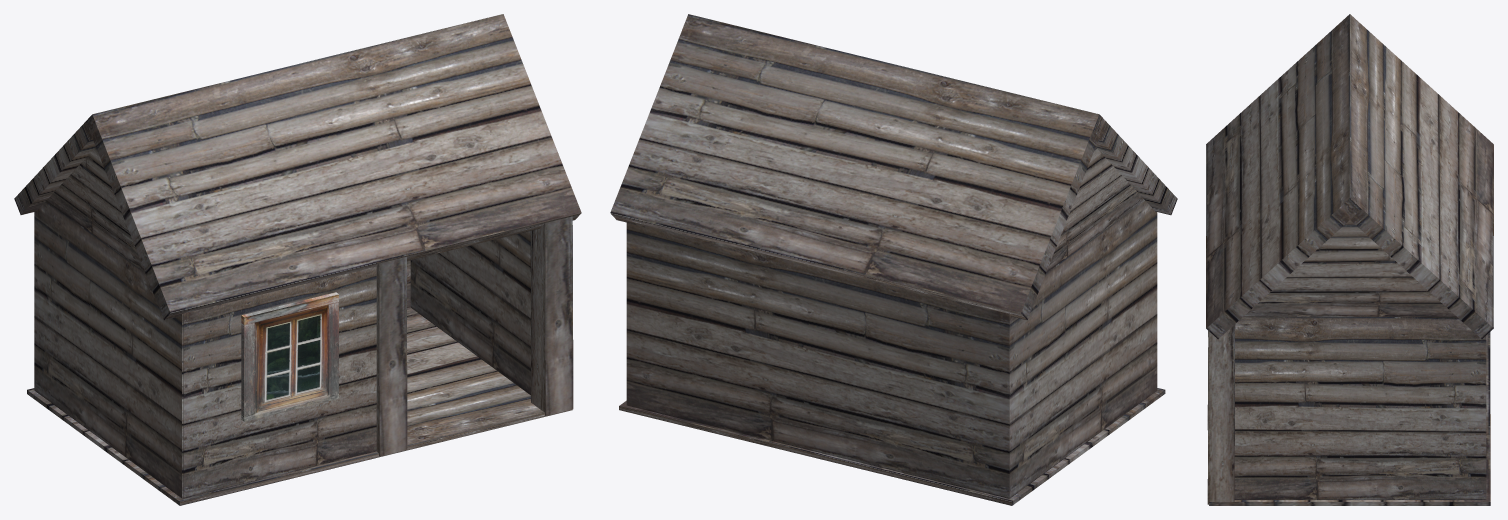
The model's file is house.obj.
3 views of the same model, side by side, from view 1: azimuth 30°, elevation 25°; view 2: azimuth 150°, elevation 25°; view 3: azimuth 270°, elevation 25° (orthographic). The views are drawn at different scales.
Visible parts, largest first — view 1: RoofFront, Left, Front, Base, Right, Window, DoorwayRight, DoorwayLeft, RoofLeft, RoofBack; view 2: RoofBack, Back, Left, RoofLeft, Base, RoofFront; view 3: Right, RoofFront, RoofBack, RoofRight, DoorwayRight, Base.
Boxes of the visible parts, x1,y1,x2,y2 form: RoofFront: [86, 14, 581, 320]; Left: [34, 200, 183, 498]; Front: [183, 266, 376, 498]; Base: [27, 307, 572, 505]; Right: [410, 231, 530, 395]; Window: [241, 292, 338, 421]; DoorwayRight: [530, 216, 573, 415]; DoorwayLeft: [376, 257, 407, 456]; RoofLeft: [47, 147, 144, 271]; RoofBack: [14, 14, 501, 214]; RoofBack: [610, 14, 1099, 320]; Back: [626, 220, 1009, 498]; Left: [1009, 200, 1157, 498]; RoofLeft: [1046, 147, 1144, 272]; Base: [619, 388, 1165, 505]; RoofFront: [684, 14, 1177, 215]; Right: [1234, 317, 1485, 499]; RoofFront: [1206, 14, 1361, 339]; RoofBack: [1350, 14, 1493, 338]; RoofRight: [1243, 220, 1456, 316]; DoorwayRight: [1207, 324, 1235, 504]; Base: [1209, 332, 1490, 505].
Size of the model in its own units: 6.44 by 5.06 by 4.25.
